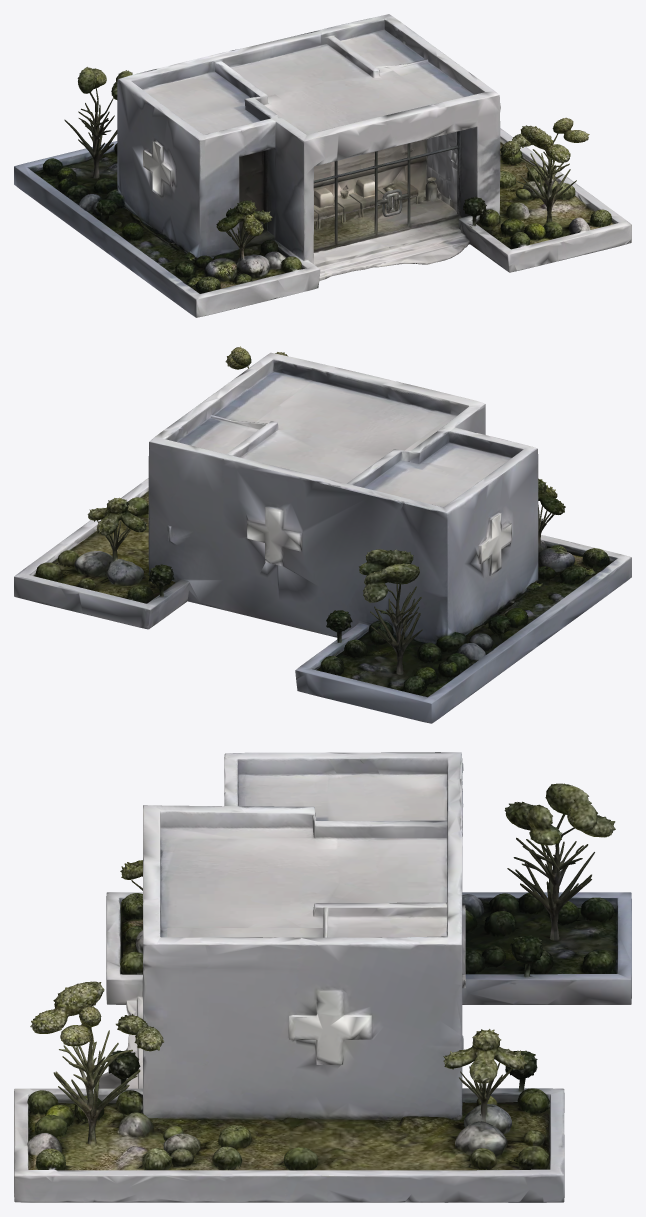
File: ward.glb
The picture shows the model from 3 angles, top to bottom: view 1: azimuth 30°, elevation 25°; view 2: azimuth 150°, elevation 25°; view 3: azimuth 270°, elevation 25°; orthographic projection. The views are drawn at different scales.
Visible parts, largest first — view 1: tripo_node_c08b65f0-2b2a-47c0-b521-060dee59b6d1; view 2: tripo_node_c08b65f0-2b2a-47c0-b521-060dee59b6d1; view 3: tripo_node_c08b65f0-2b2a-47c0-b521-060dee59b6d1.
Boxes of the visible parts, box(x1,y1,x2,y2) form: tripo_node_c08b65f0-2b2a-47c0-b521-060dee59b6d1: box(14, 14, 631, 317); tripo_node_c08b65f0-2b2a-47c0-b521-060dee59b6d1: box(14, 346, 631, 723); tripo_node_c08b65f0-2b2a-47c0-b521-060dee59b6d1: box(14, 752, 631, 1202).
Bounding box in the file's own units: 0.9789 × 0.3219 × 0.9001.
1 material, 1 textured.
